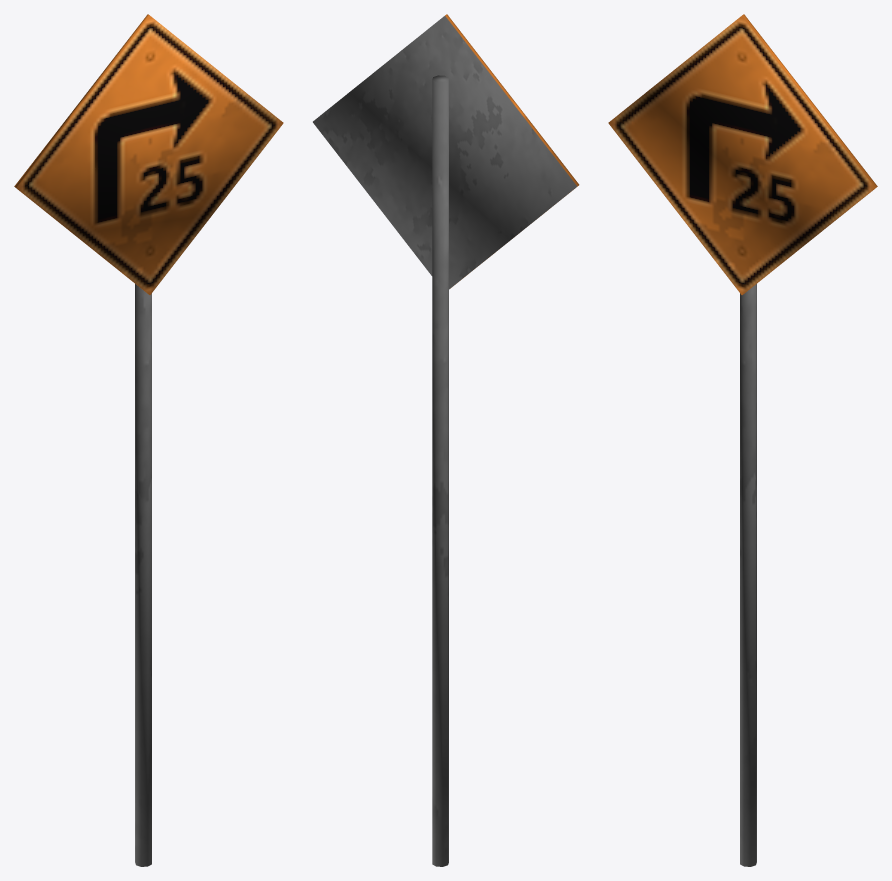
The model's file is Sign_01.glb.
The picture shows the model from 3 angles, left to right: view 1: azimuth 30°, elevation 25°; view 2: azimuth 150°, elevation 25°; view 3: azimuth 330°, elevation 25°; orthographic projection.
Parts seen in each view (by area): view 1: Sign_01.001; view 2: Sign_01.001; view 3: Sign_01.001.
Boxes of the visible parts, bbox=[...] form: Sign_01.001: bbox=[14, 14, 283, 866]; Sign_01.001: bbox=[313, 14, 579, 866]; Sign_01.001: bbox=[608, 14, 877, 866].
Size of the model in its own units: 0.7071 by 2.15 by 0.05.
1 material, 1 textured.
